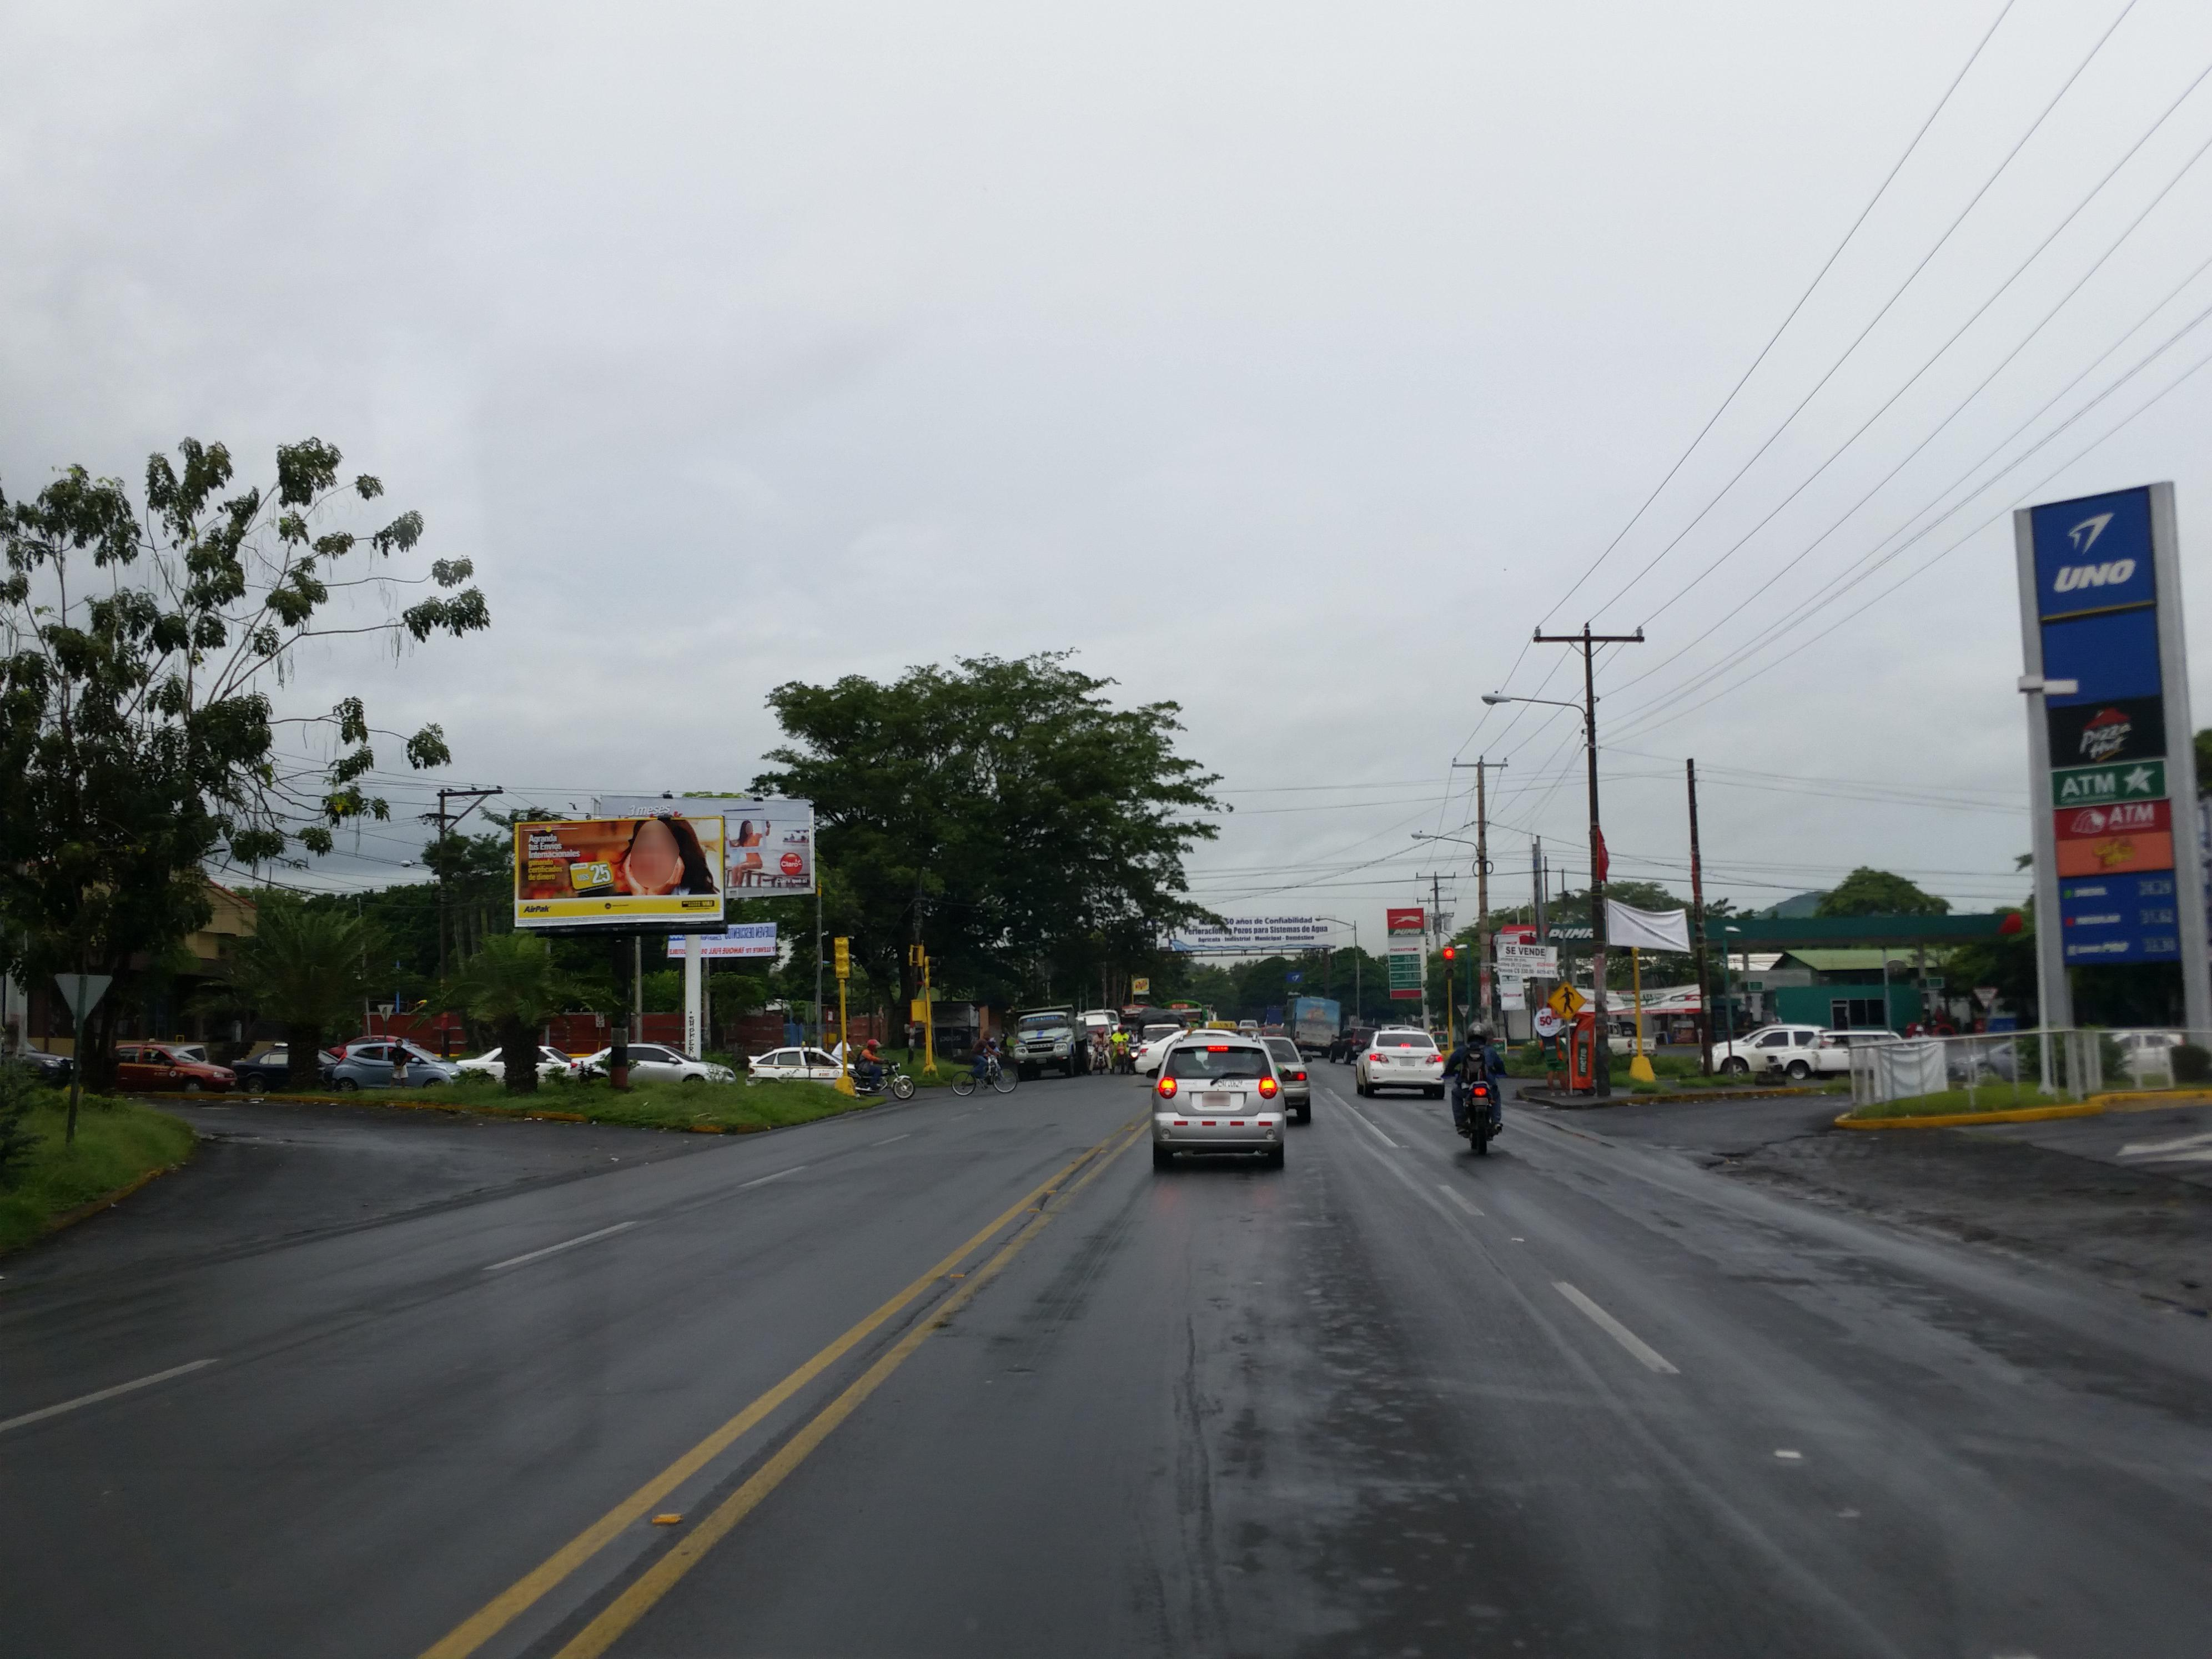vinyl banner: (1141, 897, 1352, 964), (1599, 889, 1714, 958), (1865, 1033, 1972, 1100)
